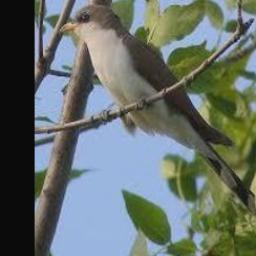Cuckoo: (58, 5, 256, 225)
